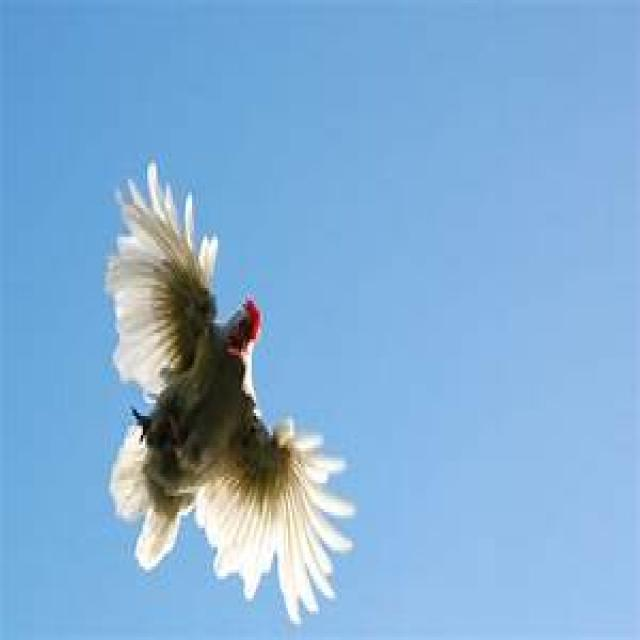hen: (105, 170, 354, 614)
